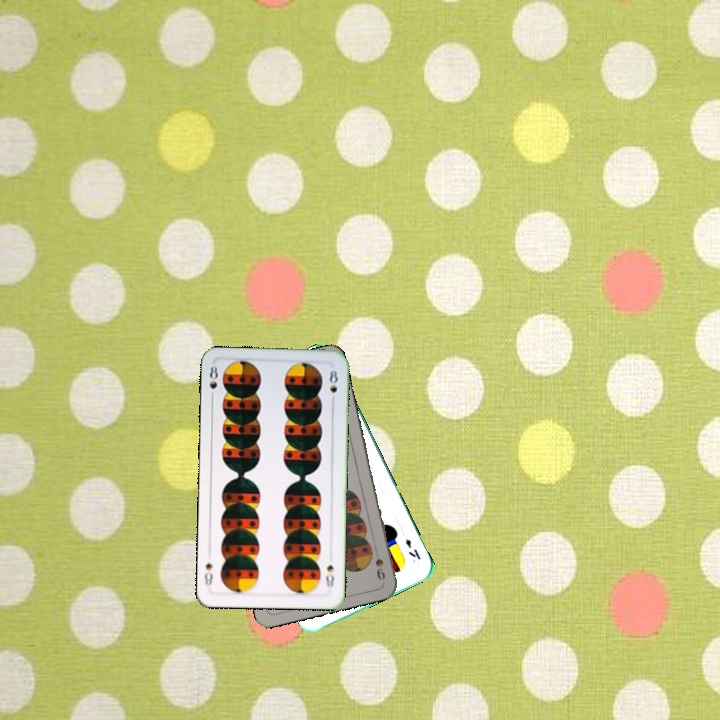EK: (401, 535, 423, 562)
S8: (205, 362, 220, 402), (321, 561, 337, 590)
S9: (370, 543, 388, 583)
